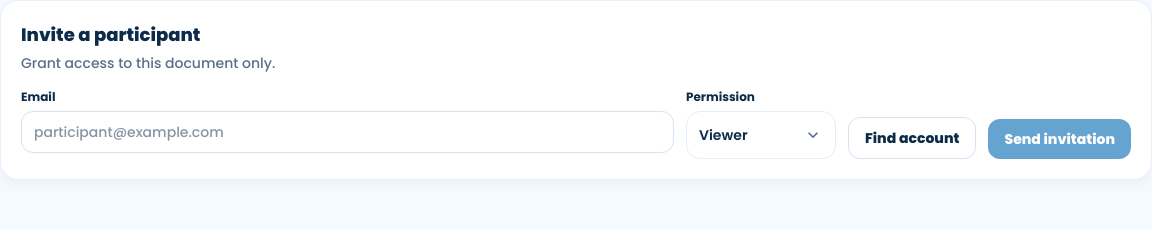
prefers a useful backend rate-limit message over the lookup fallback
The width and height of the screenshot is (1152, 229).
In the field labelled "Email": (348, 132) [21,111,674,153], type "person@example.com"
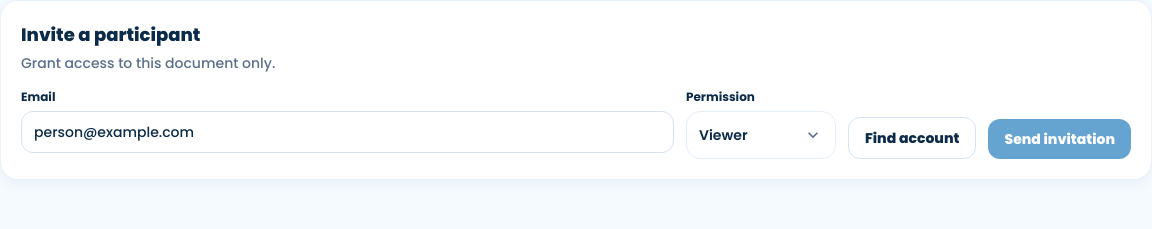
Click the button "Find account": (912, 138) [848,117,976,159]
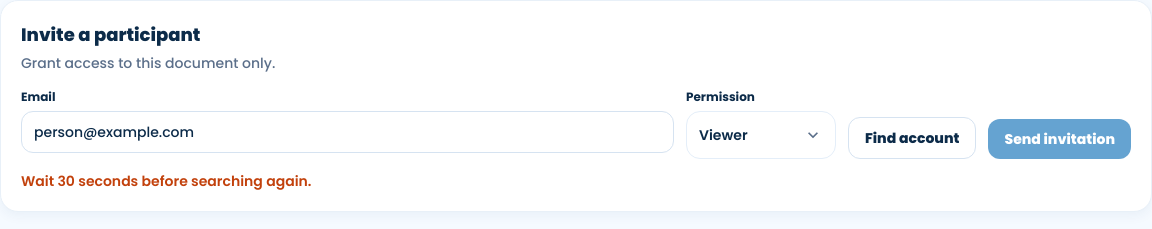
Expected: the message reads "Wait 30 seconds before searching again.", [21,171,311,191]
